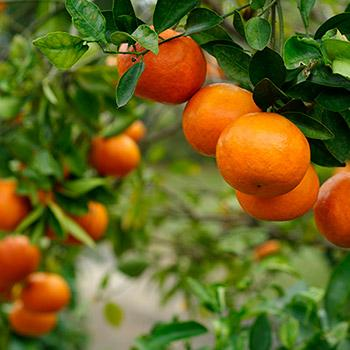Orange Fresh: (212, 101, 316, 202), (106, 22, 213, 109), (170, 72, 272, 162), (304, 161, 350, 268), (74, 126, 151, 178)
